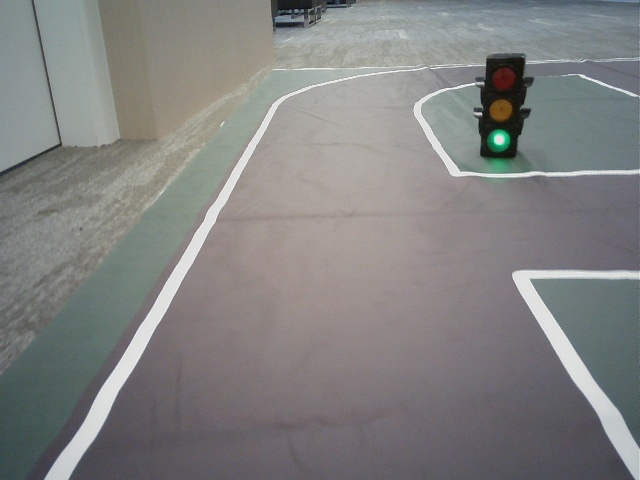green: (486, 60, 517, 156)
